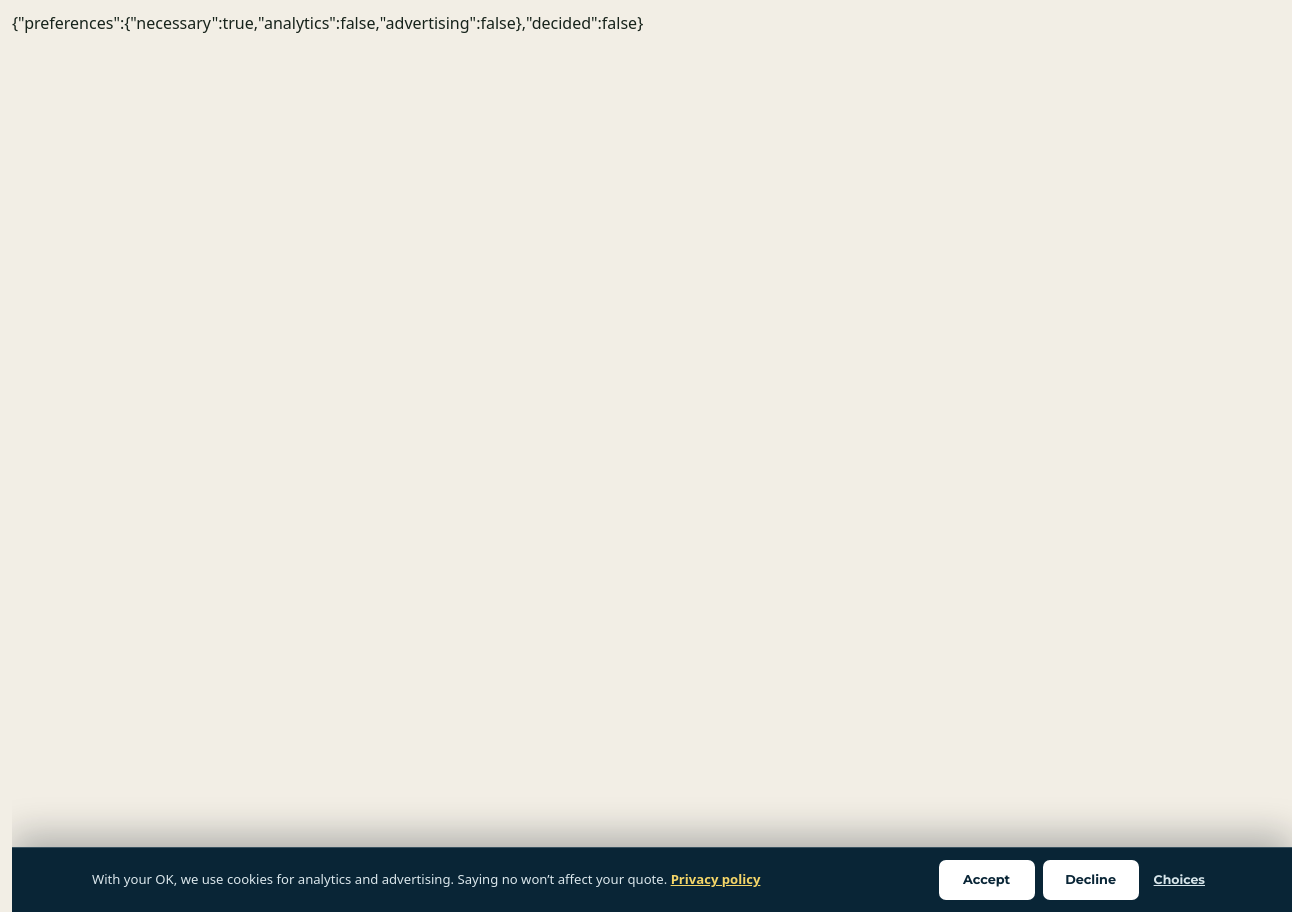
Test: website privacy consent › fails closed and keeps choices visible when saving fails
Click the button "Accept". click: (987, 880)
box: 939,860 -> 1035,900
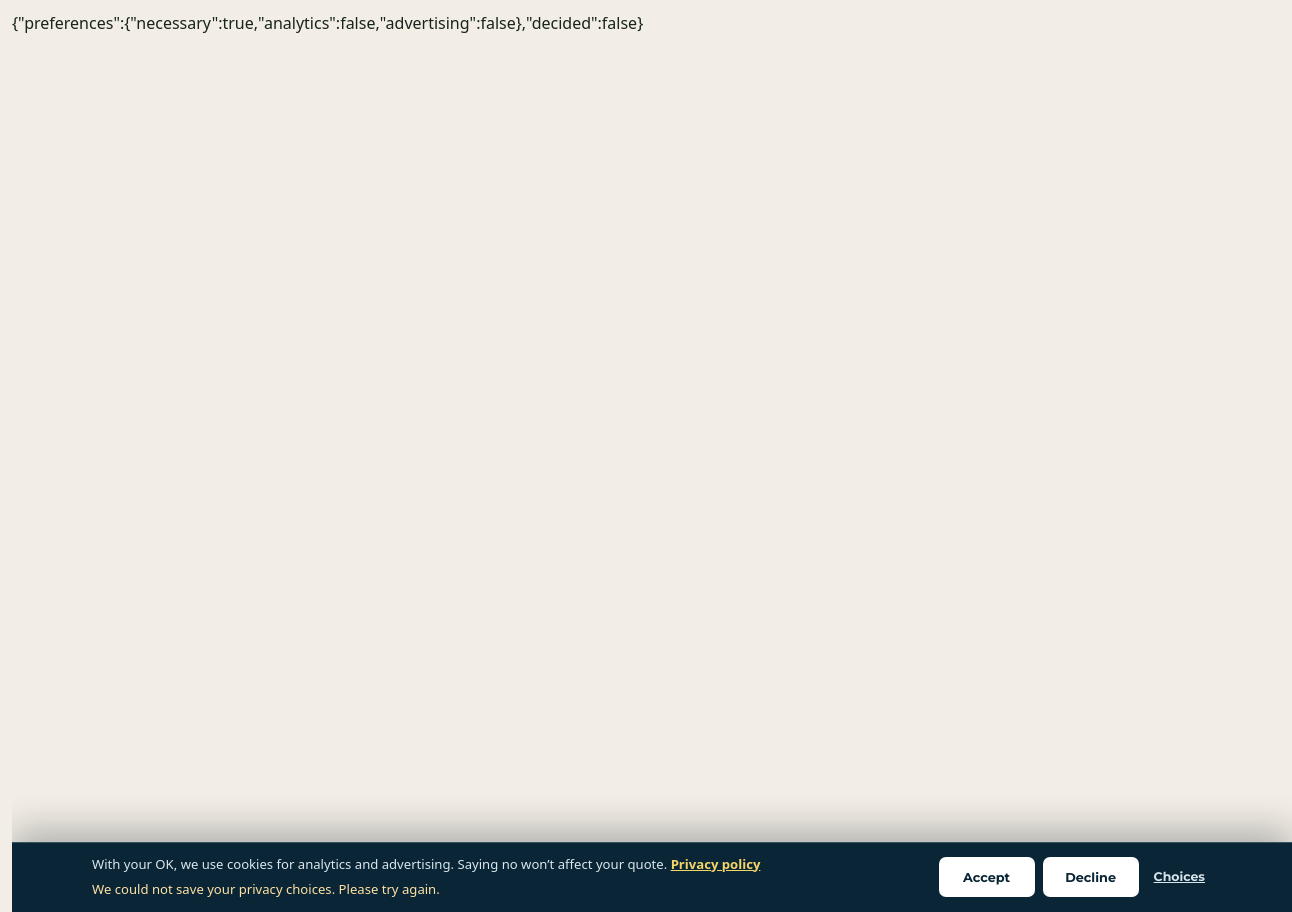
Expected: the element named "Privacy choices" is shown, 92,855 -> 1212,900
Now the message "We could not save your privacy choices. Please try again." is shown, box 92,880 -> 440,898
